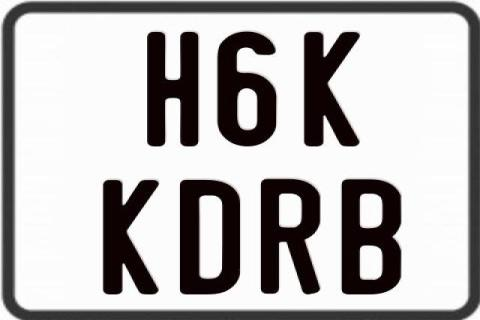0: (218, 32, 278, 150)
B: (341, 178, 405, 296)
D: (179, 180, 240, 294)
H: (144, 32, 200, 146)
K: (100, 177, 158, 297), (304, 31, 363, 146)
R: (260, 177, 321, 297)
